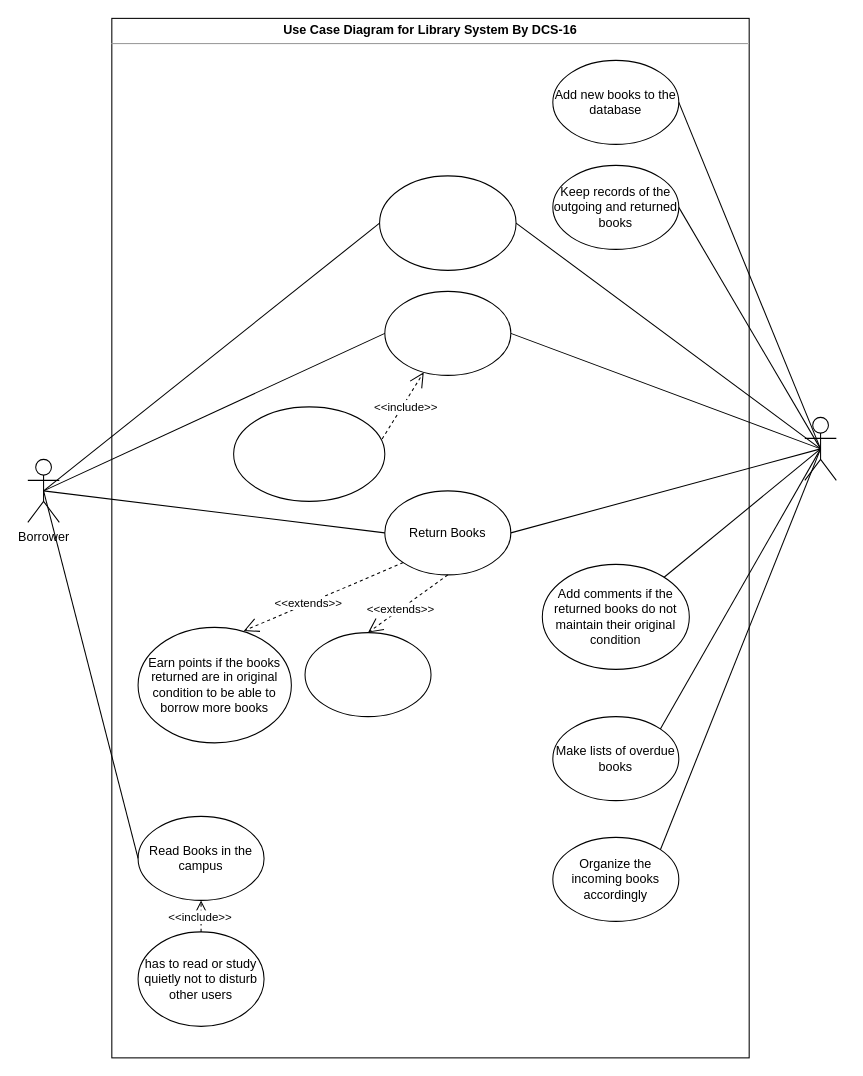
Image size: 863x1076. Some labels were removed from this diagram. Each missing label, with the box of its shape:
Borrow Books: (384, 290, 511, 375)
Cannot borrow books if the borrower has more than 3 books to return: (233, 406, 385, 501)
Have to pay fines if the books are damaged: (304, 632, 431, 717)
Librarian: (804, 416, 836, 480)
Register to be able to borrow books from the library: (379, 175, 516, 270)
